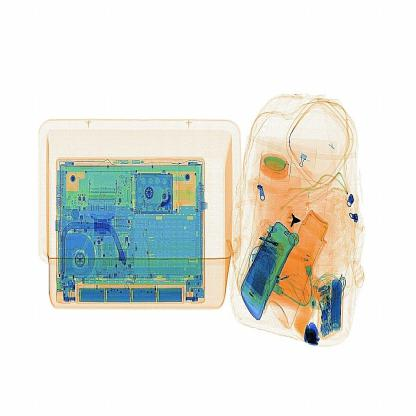gun: (282, 198, 308, 240)
